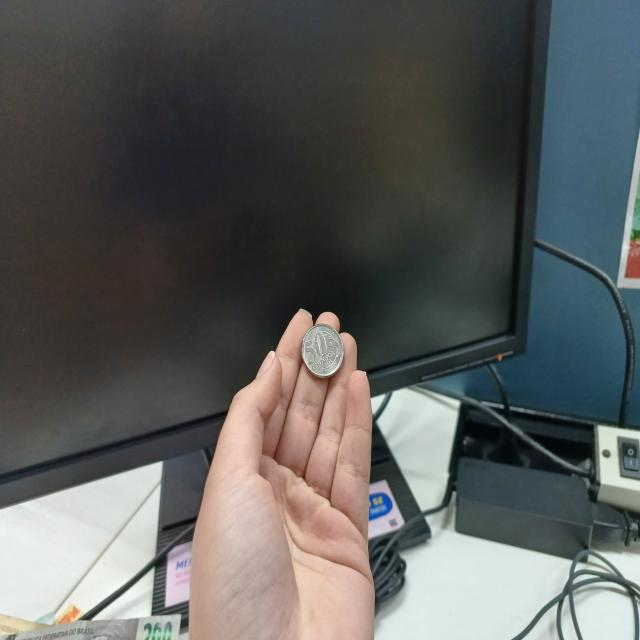50 cents: (301, 320, 345, 382)
